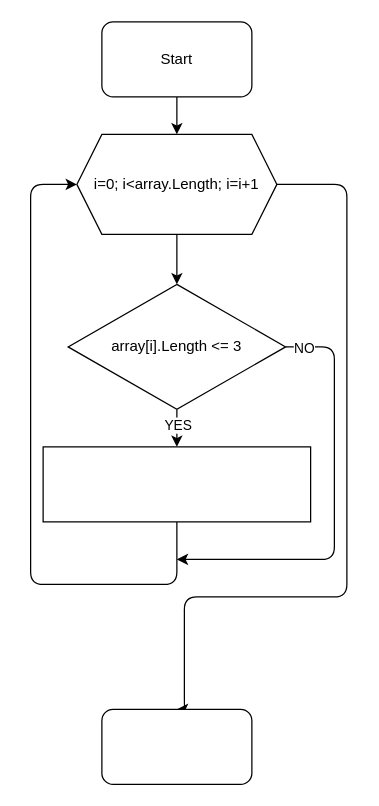
The diagram is 379 pixels wide and 806 high, and some of its shapes have lost their labels. Here are the shapes that lost their labels. From the top down, the centre of each, then its label:
(x=176, y=484): Console.Write (array[i] + " ")
(x=176, y=746): End
